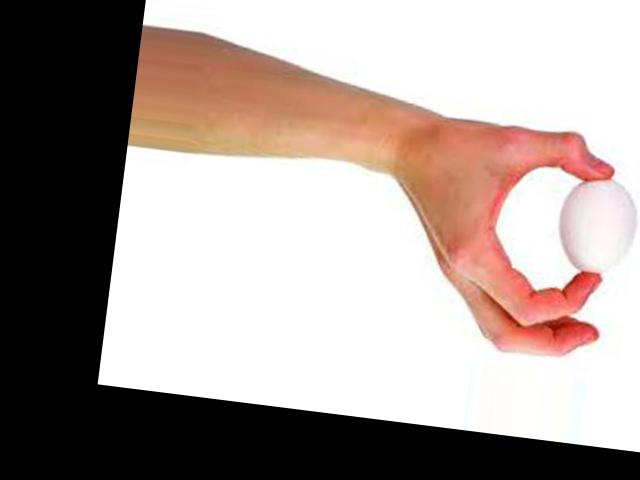egg: (554, 174, 640, 278)
